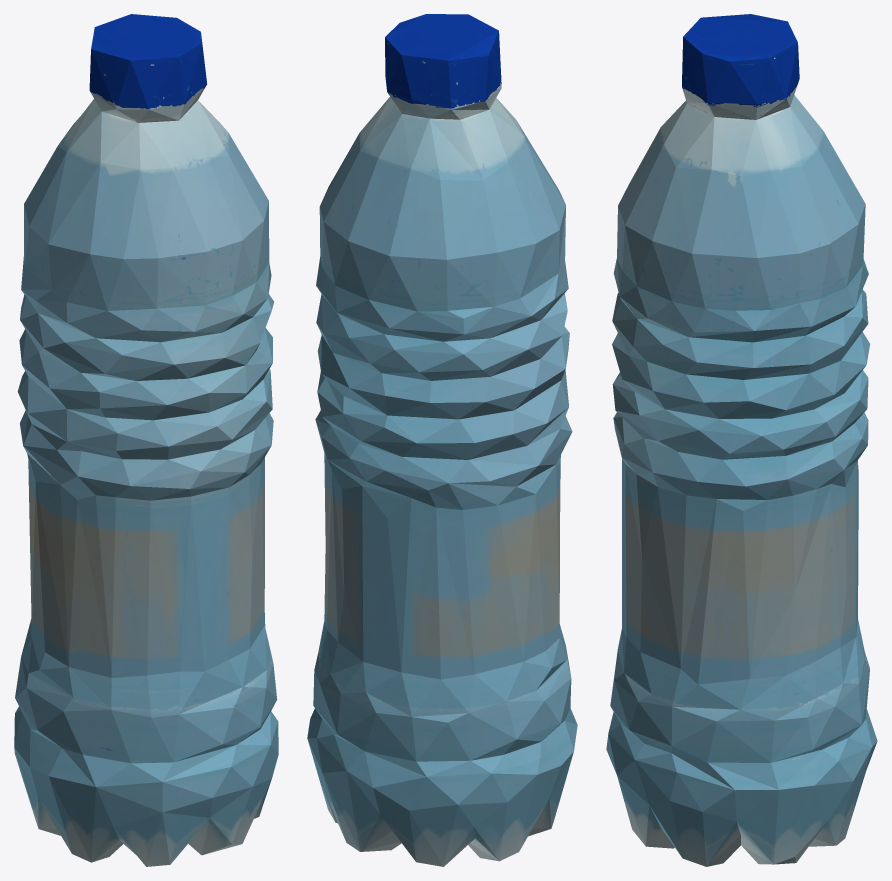
File: tool.bottle.glb
3 views of the same model, side by side, from view 1: azimuth 30°, elevation 25°; view 2: azimuth 150°, elevation 25°; view 3: azimuth 270°, elevation 25° (orthographic).
Parts seen in each view (by area): view 1: lowpoly; view 2: lowpoly; view 3: lowpoly.
Boxes of the visible parts, box(x1,y1,x2,y2) form: lowpoly: box(14, 14, 278, 866); lowpoly: box(307, 14, 577, 866); lowpoly: box(606, 14, 877, 866).
Size of the model in its own units: 0.3099 by 1 by 0.3085.
1 material, 1 textured.
